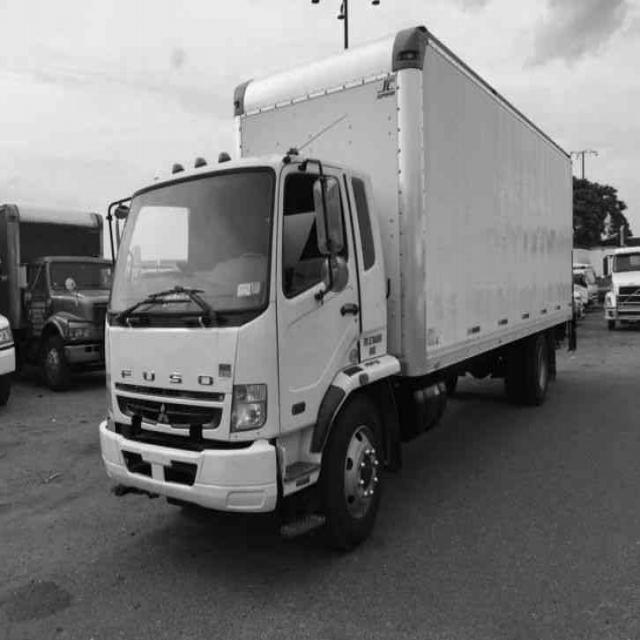truck: (60, 132, 429, 553)
